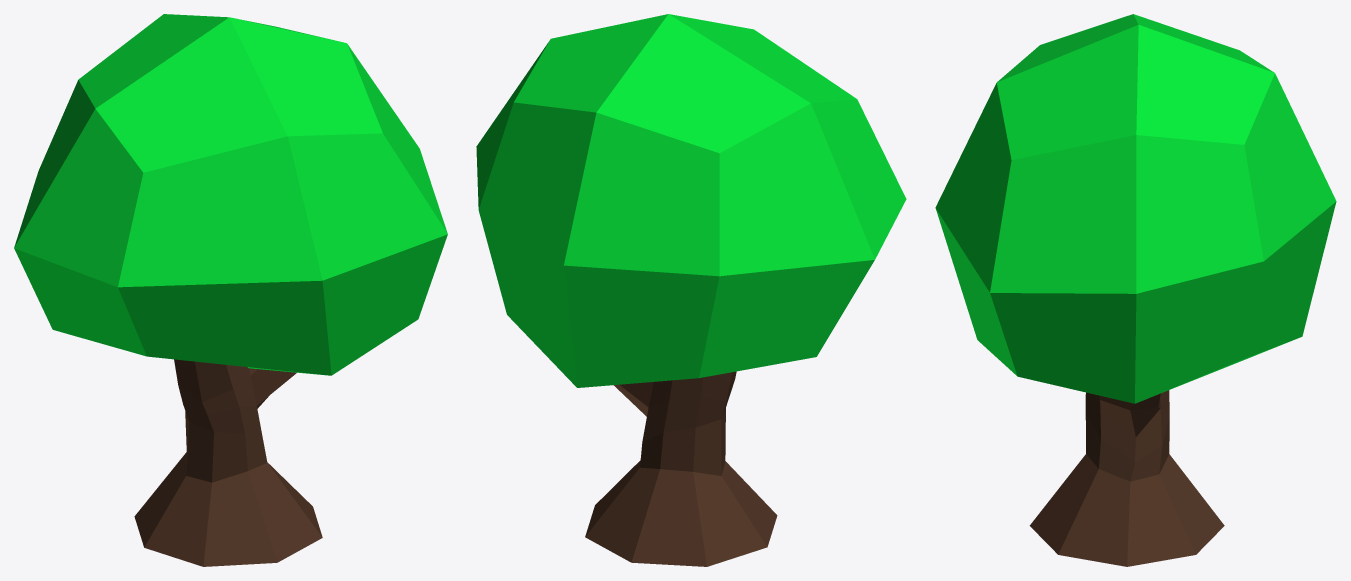
File: Tree1.fbx
The picture shows the model from 3 angles, left to right: view 1: azimuth 30°, elevation 25°; view 2: azimuth 150°, elevation 25°; view 3: azimuth 270°, elevation 25°; orthographic projection. The views are drawn at different scales.
Visible parts, largest first — view 1: Cylinder.012; view 2: Cylinder.012; view 3: Cylinder.012.
Part boxes in pixels (x1=…): Cylinder.012: x1=14, y1=14, x2=447, y2=566; Cylinder.012: x1=476, y1=14, x2=906, y2=566; Cylinder.012: x1=935, y1=14, x2=1336, y2=566.
Size of the model in its own units: 196 by 237 by 171.
